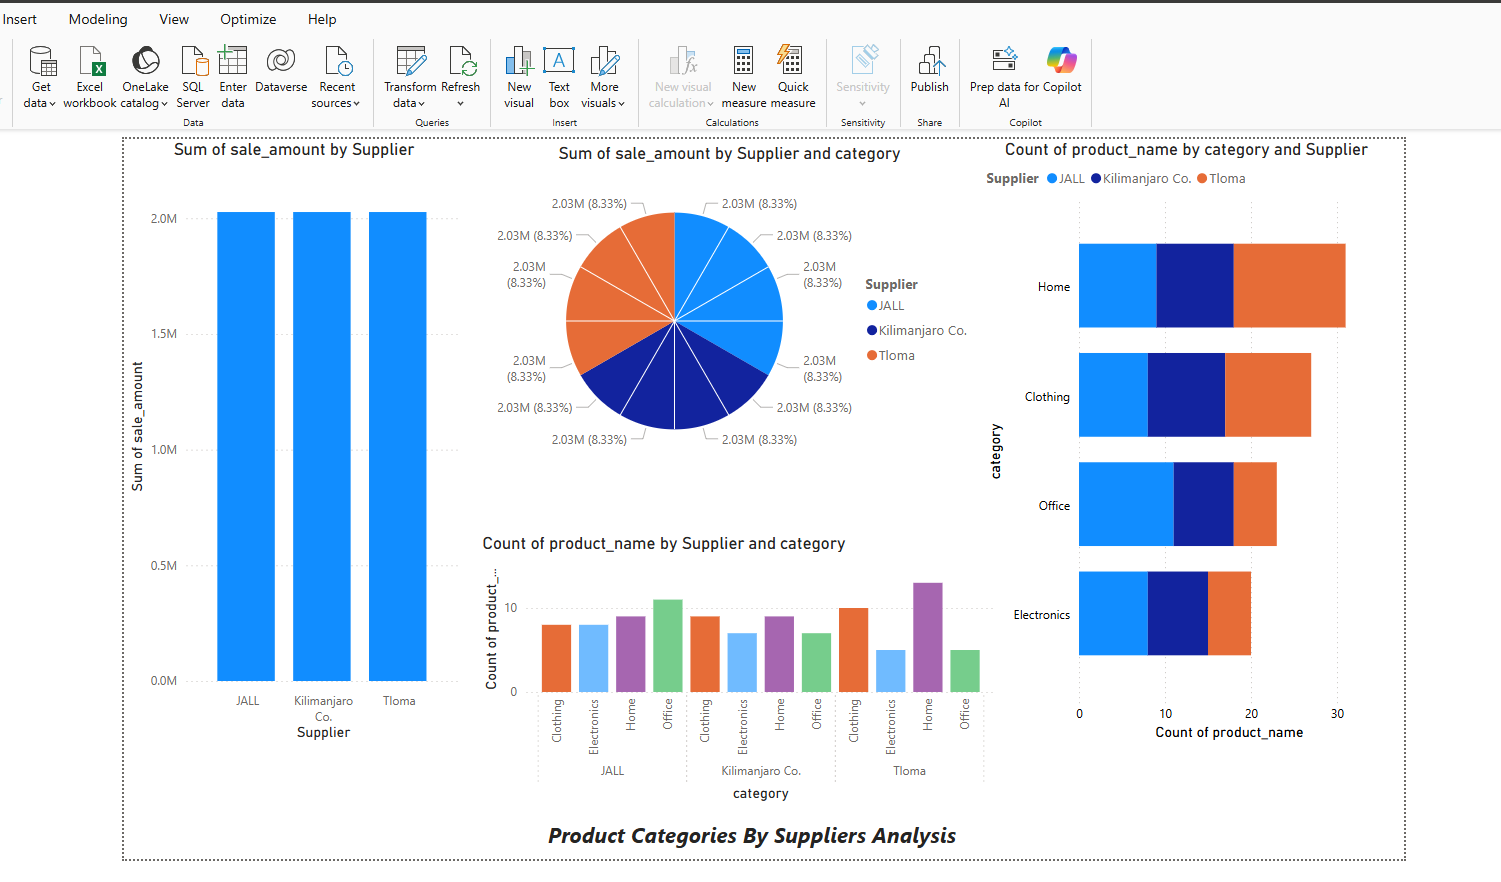

The page's visual inventory and layout, read from the dashboard file:
{"tool":"powerbi","page":{"name":"Page 1","canvas":[1280,720],"ordinal":0},"visuals":[{"type":"barChart","fields":{"Category":["product.category"],"Y":["CountNonNull(product.product_name)"],"Series":["product.Supplier"]},"box":[858,0,410,606],"z":0},{"type":"pieChart","fields":{"Category":["product.Supplier"],"Series":["product.category"],"Y":["Sum(sale.sale_amount)"]},"box":[354,4,504,337],"z":1000},{"type":"columnChart","fields":{"Category":["product.Supplier"],"Y":["Sum(sale.sale_amount)"]},"box":[0,0,341,606],"z":2000},{"type":"columnChart","fields":{"Category":["product.Supplier","product.category"],"Y":["CountNonNull(product.product_name)"]},"box":[354,394,522,273],"z":3000},{"type":"textbox","box":[361,676,535,44],"z":4000}]}

Visuals, with their boxes on the page's 1280x720 design canvas (x1, y1, x2, y2). These are canvas units, not pixel positions in the 1501x882 screenshot, which may show the page scaled, cropped or inside an application window:
barChart - product.category x CountNonNull(product.product_name): [858,0,1268,606]
pieChart - product.Supplier x product.category: [354,4,858,341]
columnChart - product.Supplier x Sum(sale.sale_amount): [0,0,341,606]
columnChart - product.Supplier x product.category: [354,394,876,667]
textbox: [361,676,896,720]
